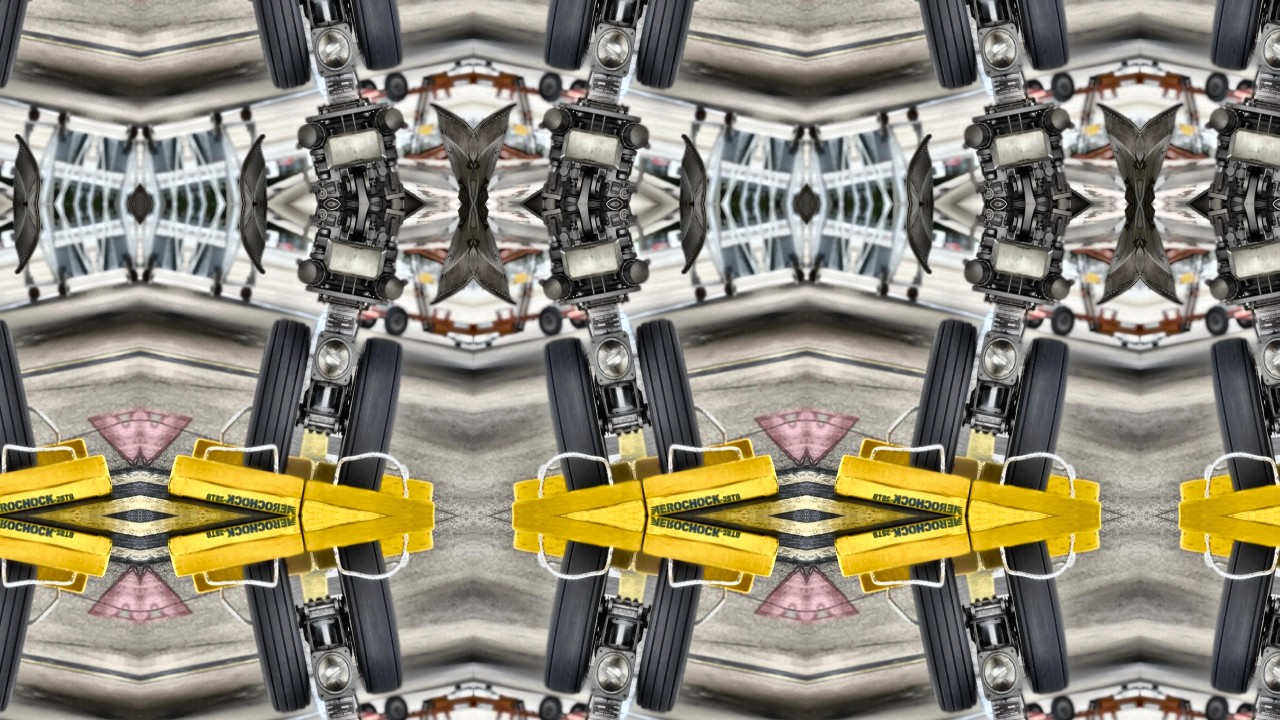chock: (165, 452, 305, 516), (641, 452, 781, 516), (832, 452, 972, 516), (165, 516, 305, 580), (641, 516, 781, 580), (832, 516, 972, 580), (0, 452, 114, 516), (0, 516, 114, 580), (510, 458, 636, 504), (510, 528, 636, 574), (311, 458, 436, 504), (978, 458, 1103, 504), (311, 528, 436, 574), (978, 528, 1103, 574), (508, 476, 649, 516), (508, 516, 649, 556), (298, 476, 438, 516), (965, 476, 1105, 516), (298, 516, 438, 556), (965, 516, 1105, 556), (189, 436, 313, 481), (633, 436, 757, 481), (856, 436, 980, 481), (189, 551, 313, 596), (633, 551, 757, 596), (856, 551, 980, 596), (1177, 458, 1280, 504), (1177, 528, 1280, 574), (1175, 476, 1280, 516), (1175, 516, 1280, 556), (0, 436, 90, 481), (0, 551, 90, 596)
wheel: (333, 333, 408, 491), (538, 333, 613, 491), (1000, 333, 1075, 491), (1205, 333, 1280, 491), (333, 541, 408, 699), (538, 541, 613, 699), (1000, 541, 1075, 699), (1205, 541, 1280, 699), (242, 316, 316, 476), (909, 316, 983, 476), (242, 556, 316, 716), (909, 556, 983, 716), (631, 316, 704, 476), (631, 556, 704, 716), (242, 0, 316, 92), (909, 0, 983, 92), (631, 0, 704, 92), (0, 316, 37, 476), (0, 556, 37, 716), (333, 0, 408, 75), (538, 0, 613, 75), (1000, 0, 1075, 75), (1205, 0, 1280, 75), (0, 0, 37, 92), (383, 72, 410, 103), (1050, 72, 1077, 103), (383, 305, 410, 336), (1050, 305, 1077, 336), (537, 72, 563, 103), (1204, 72, 1230, 103), (537, 305, 563, 336), (1204, 305, 1230, 336), (383, 696, 410, 720), (1050, 696, 1077, 720), (537, 696, 563, 720), (1204, 696, 1230, 720), (358, 78, 377, 95), (569, 78, 588, 95), (1025, 78, 1044, 95), (1236, 78, 1255, 95), (358, 313, 377, 330), (569, 313, 588, 330), (1025, 313, 1044, 330), (1236, 313, 1255, 330), (358, 702, 377, 719), (569, 702, 588, 719), (1025, 702, 1044, 719), (1236, 702, 1255, 719)
